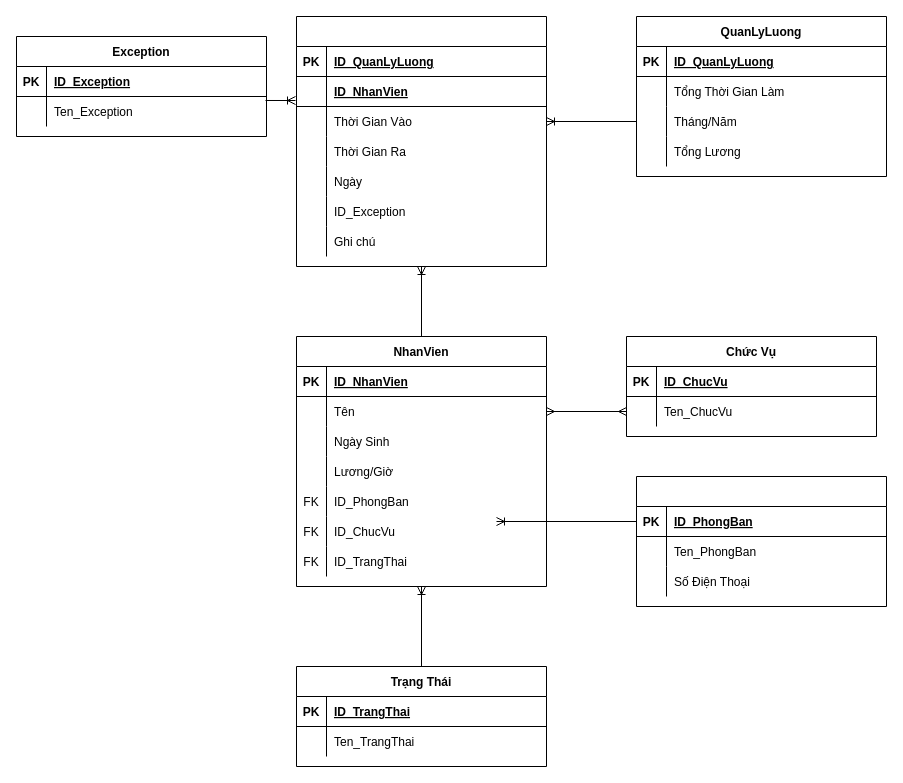
The diagram is 903 pixels wide and 783 high, and some of its shapes have lost their labels. Each missing label, with the box of its shape:
Phòng Ban: (636, 476, 886, 606)
QuanLyCongNgay: (296, 16, 546, 266)
